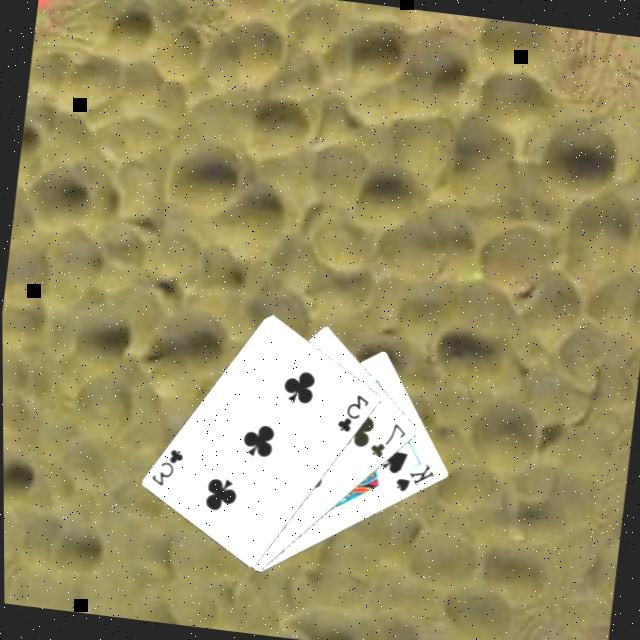3C: (143, 442, 184, 491), (330, 387, 370, 436)
7C: (362, 415, 408, 463)
KS: (388, 454, 436, 498)
